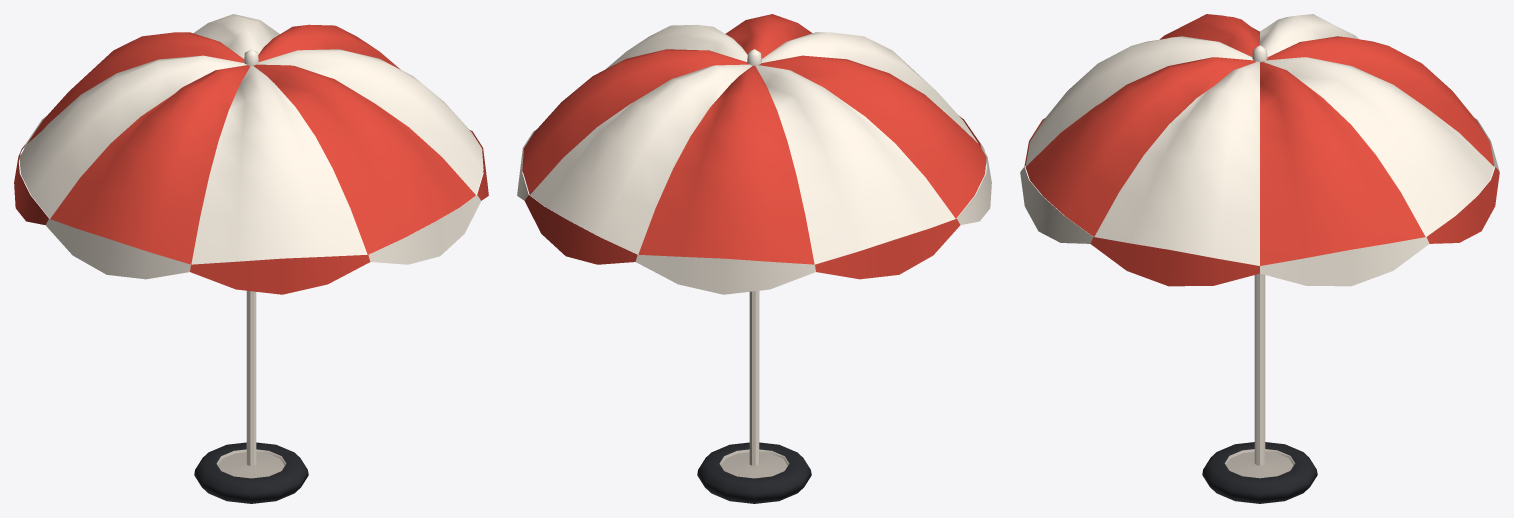
Rendered from prop_umbrella.glb.
3 views of the same model, side by side, from view 1: azimuth 30°, elevation 25°; view 2: azimuth 150°, elevation 25°; view 3: azimuth 270°, elevation 25° (orthographic).
Visible parts, largest first — view 1: prop_umbrella; view 2: prop_umbrella; view 3: prop_umbrella.
Part boxes in pixels (x1,y1,x2,y2): prop_umbrella: (14, 14, 488, 503); prop_umbrella: (517, 14, 991, 503); prop_umbrella: (1020, 14, 1499, 503).
Bounding box in the file's own units: 2.78 × 2.8 × 2.78.
